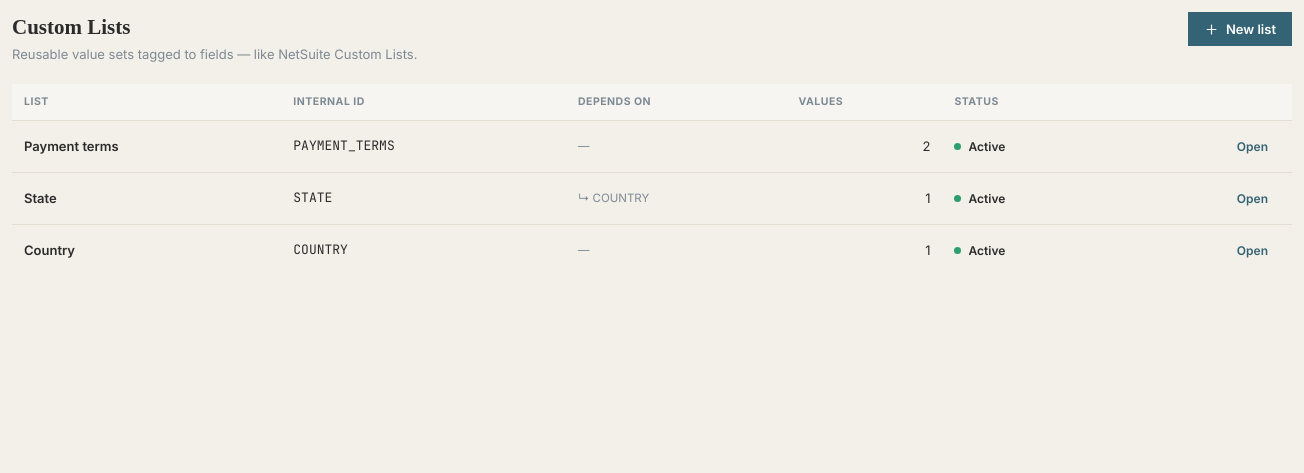
it: AdminCustomLists (NetSuite-style custom lists) › lists the value sets and, once Opened, shows the list’s values (code + label)
Check: the text "Payment terms" is shown, box [24, 138, 119, 154]
Check: the text "Country" is shown, box [24, 242, 75, 258]
// Open the first list → its values render on the dedicated page
Click the button with aria-label "Open Payment terms". click: (1252,146)
box: [1225, 132, 1280, 160]
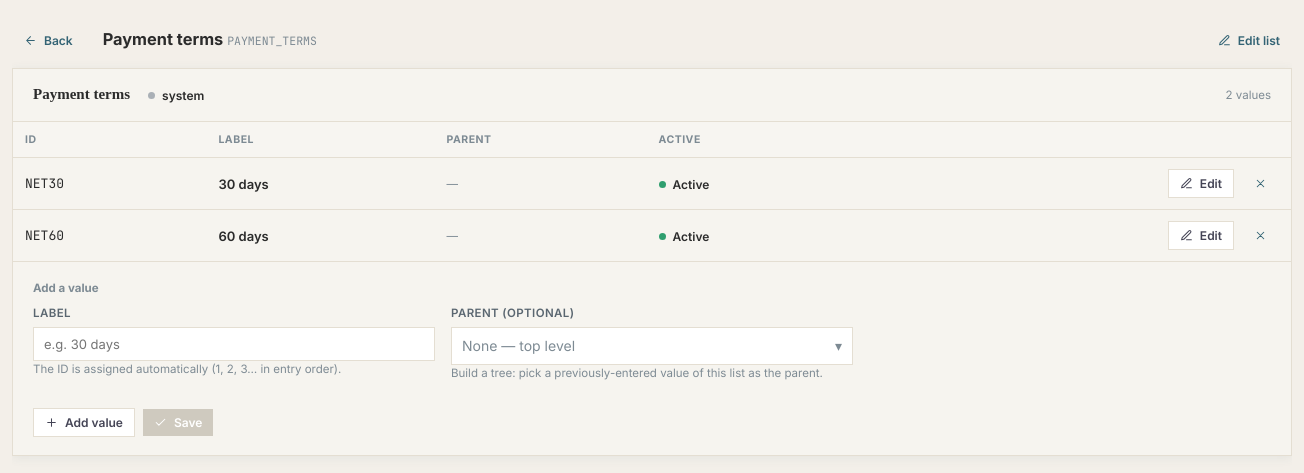
Check: the text "NET30" is shown, box [13, 158, 206, 210]
Check: the text "30 days" is shown, box [206, 158, 434, 210]
